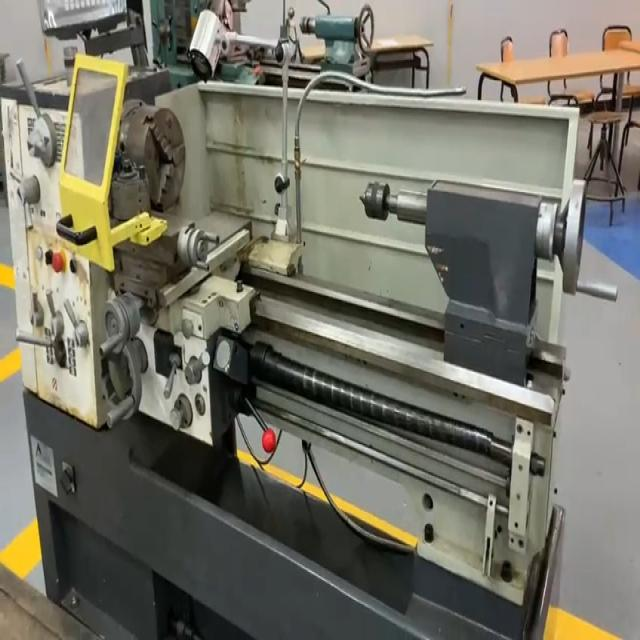tour parallele: (0, 39, 583, 640)
